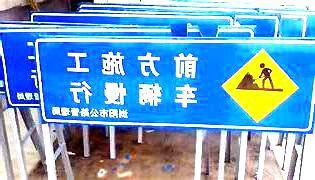sign: (37, 41, 311, 132)
